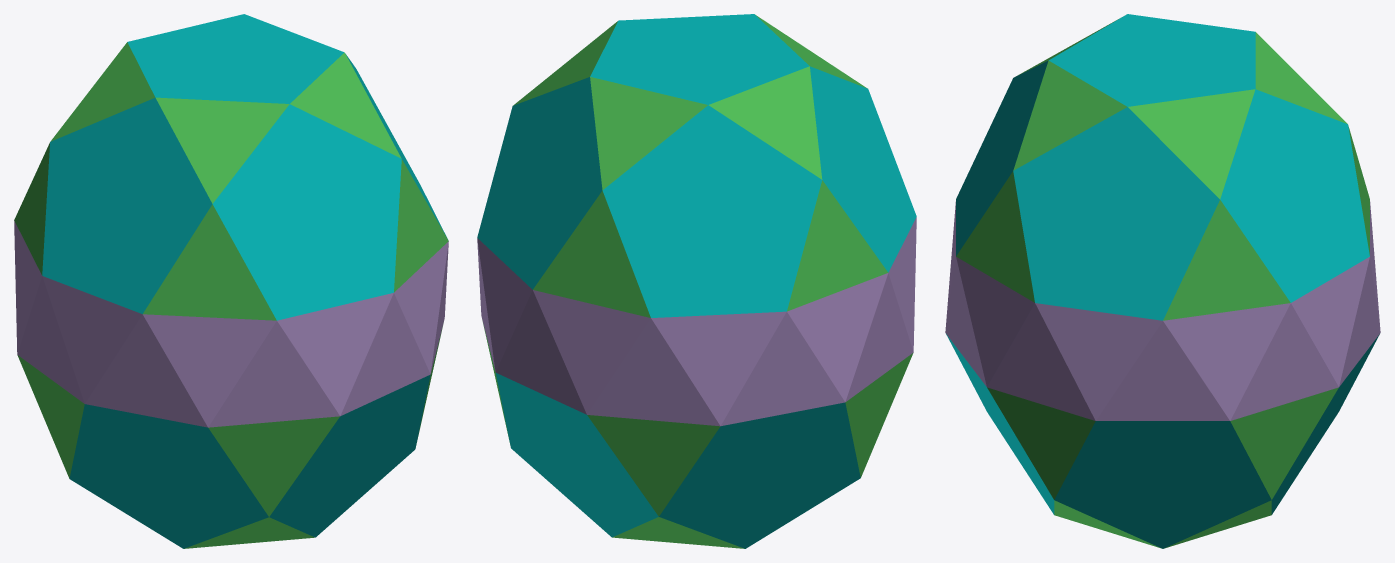
File: J48.BirrotondaPentagonalGiroelongada.gltf
3 renders of one model, left to right at view 1: azimuth 30°, elevation 25°; view 2: azimuth 150°, elevation 25°; view 3: azimuth 270°, elevation 25°, orthographic.
Parts seen in each view (by area): view 1: J48.BirrotondaPentagonalGiroelongada; view 2: J48.BirrotondaPentagonalGiroelongada; view 3: J48.BirrotondaPentagonalGiroelongada.
Part boxes in pixels (box(x1,y1,x2,y2)): J48.BirrotondaPentagonalGiroelongada: box(14, 14, 448, 548); J48.BirrotondaPentagonalGiroelongada: box(477, 14, 916, 548); J48.BirrotondaPentagonalGiroelongada: box(945, 14, 1380, 548).
Size of the model in its own units: 16.2 by 18.14 by 16.2.
